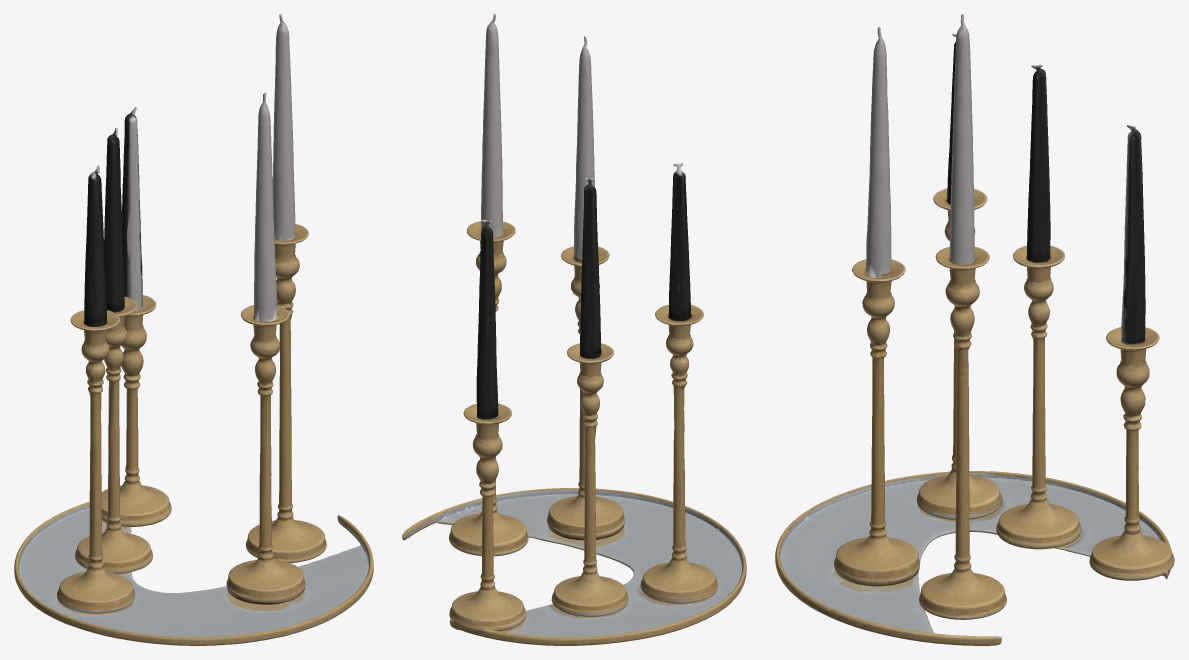
Rendered from decor-candlestick-brass.glb.
3 renders of one model, left to right at view 1: azimuth 30°, elevation 25°; view 2: azimuth 150°, elevation 25°; view 3: azimuth 270°, elevation 25°, orthographic. The views are drawn at different scales.
Visible parts, largest first — view 1: tripo_node_dfd1a689-71b7-4995-bca9-26325eddaa2f; view 2: tripo_node_dfd1a689-71b7-4995-bca9-26325eddaa2f; view 3: tripo_node_dfd1a689-71b7-4995-bca9-26325eddaa2f.
Part boxes in pixels (x1,y1,x2,y2): tripo_node_dfd1a689-71b7-4995-bca9-26325eddaa2f: (14,14,373,645); tripo_node_dfd1a689-71b7-4995-bca9-26325eddaa2f: (402,14,746,645); tripo_node_dfd1a689-71b7-4995-bca9-26325eddaa2f: (775,14,1174,645).
Bounding box in the file's own units: 0.2136 × 0.35 × 0.2136.
2 materials, 1 textured.
